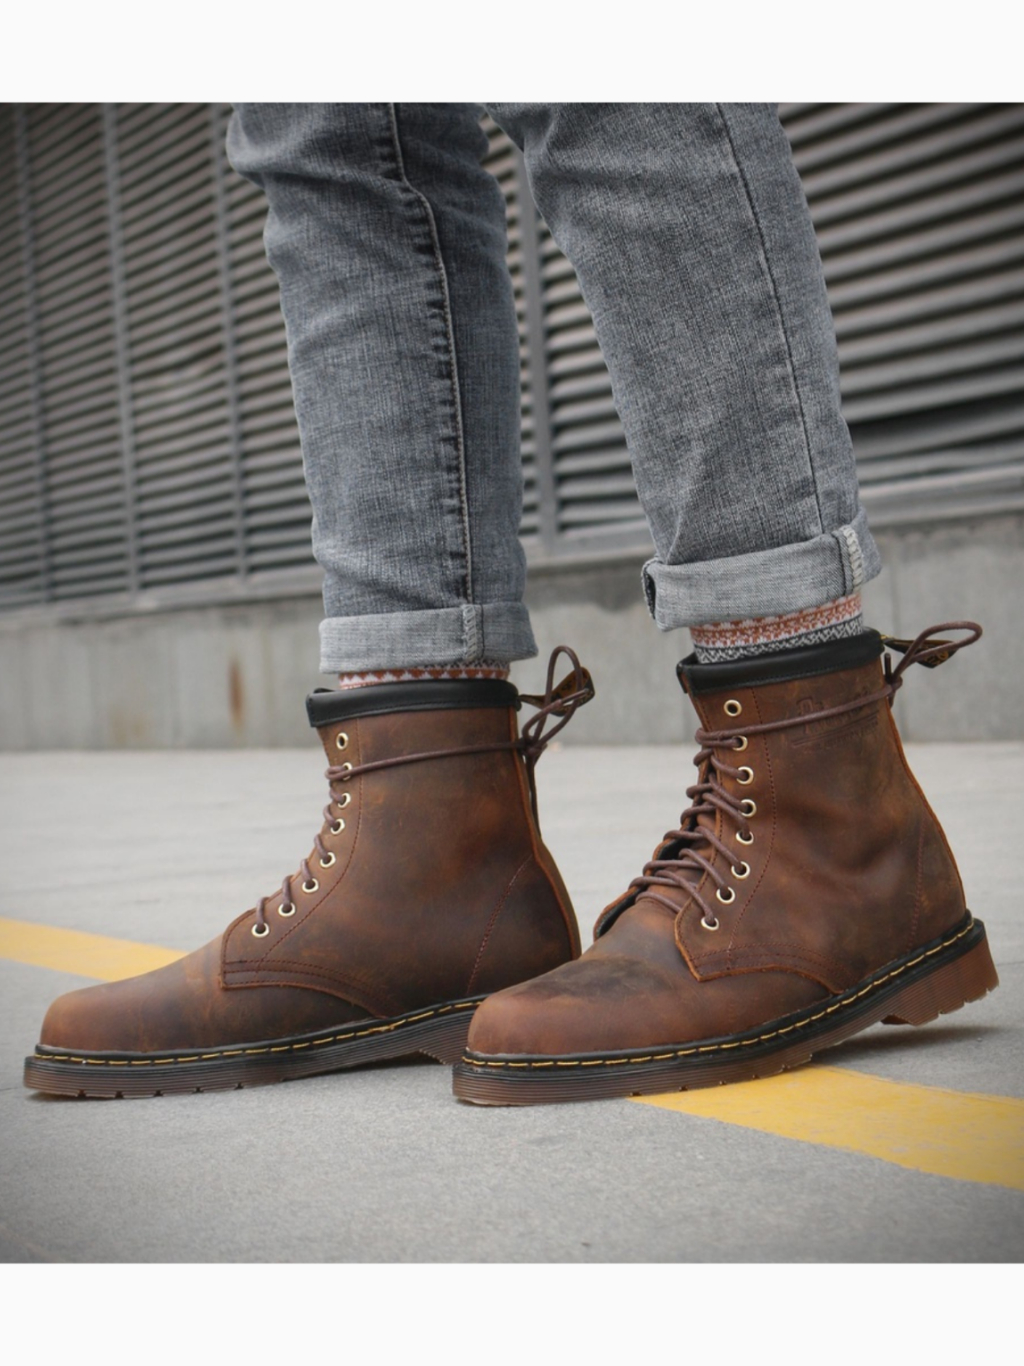boots: (455, 639, 1000, 1107), (23, 675, 579, 1109)
